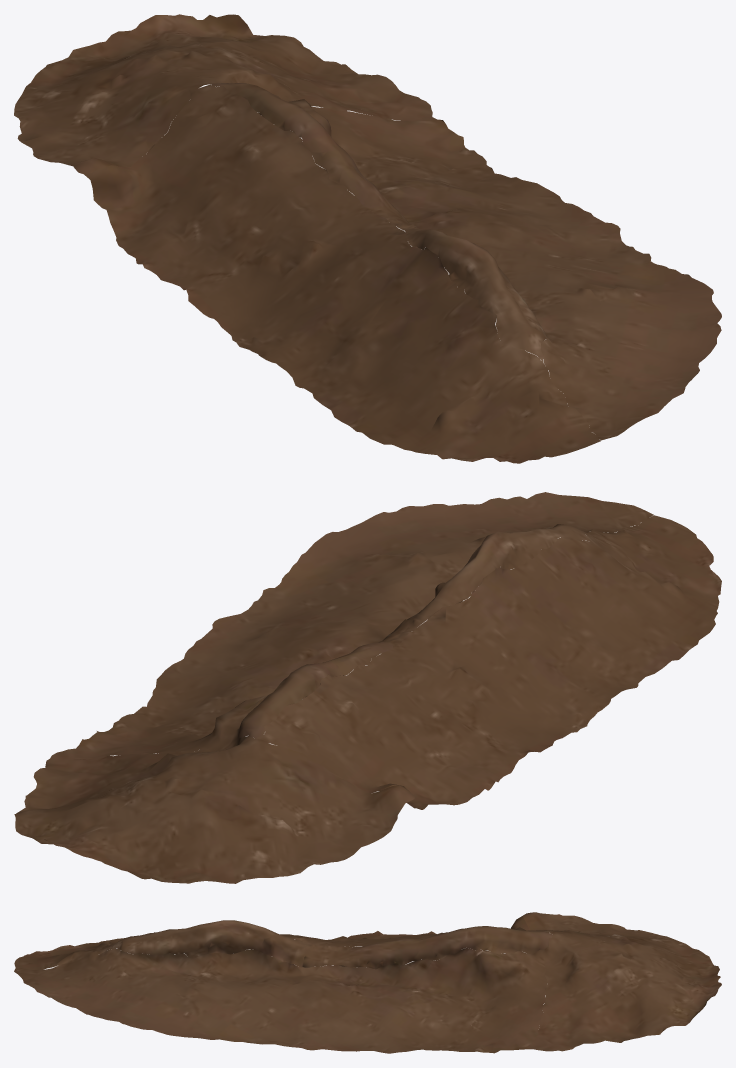
Rendered from root-cluster-02-b.glb.
3 renders of one model, top to bottom at view 1: azimuth 30°, elevation 25°; view 2: azimuth 150°, elevation 25°; view 3: azimuth 270°, elevation 25°, orthographic. The views are drawn at different scales.
Visible parts, largest first — view 1: root_cluster_02_b; view 2: root_cluster_02_b; view 3: root_cluster_02_b.
Part boxes in pixels (box(x1,y1,x2,y2)): root_cluster_02_b: box(14, 14, 721, 463); root_cluster_02_b: box(14, 492, 721, 883); root_cluster_02_b: box(14, 912, 721, 1053).
Bounding box in the file's own units: 0.3271 × 0.0891 × 0.7815.
1 material, 1 textured.
